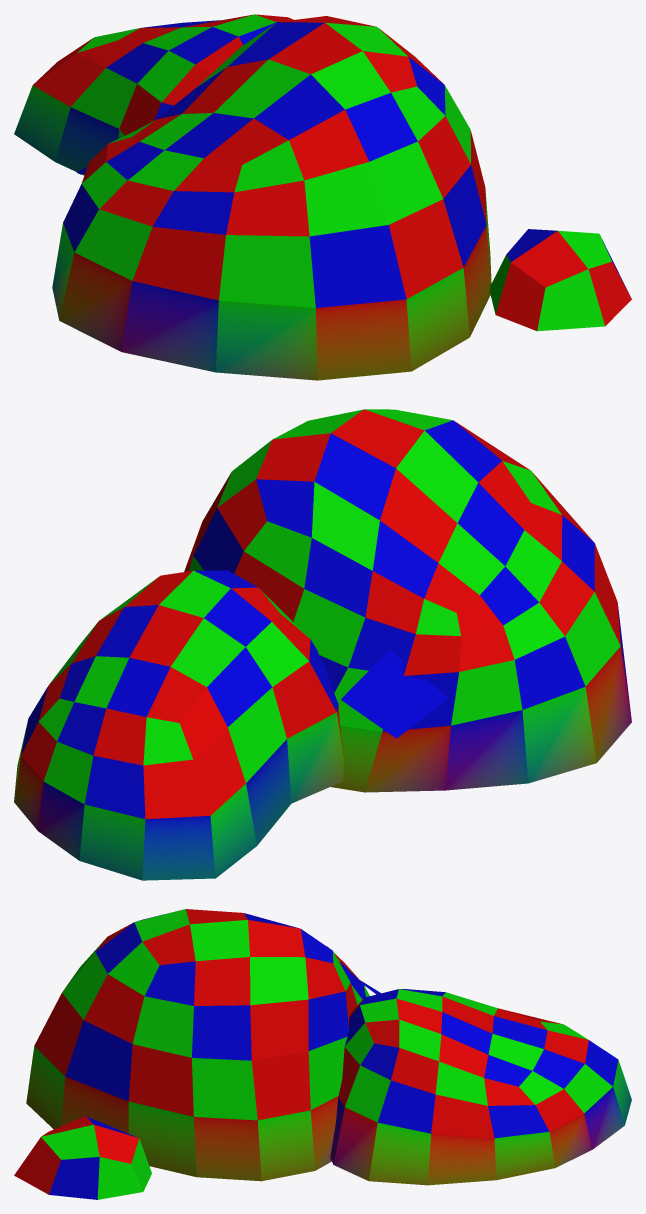
Rendered from Bush_B_03.fbx.
3 views of the same model, one above another, from view 1: azimuth 30°, elevation 25°; view 2: azimuth 150°, elevation 25°; view 3: azimuth 270°, elevation 25° (orthographic). The views are drawn at different scales.
Visible parts, largest first — view 1: Bush_B_03; view 2: Bush_B_03; view 3: Bush_B_03.
Part boxes in pixels (x1,y1,x2,y2): Bush_B_03: [14, 14, 631, 380]; Bush_B_03: [14, 409, 631, 880]; Bush_B_03: [14, 909, 631, 1199].
Size of the model in its own units: 1.82 by 0.9207 by 2.53.
